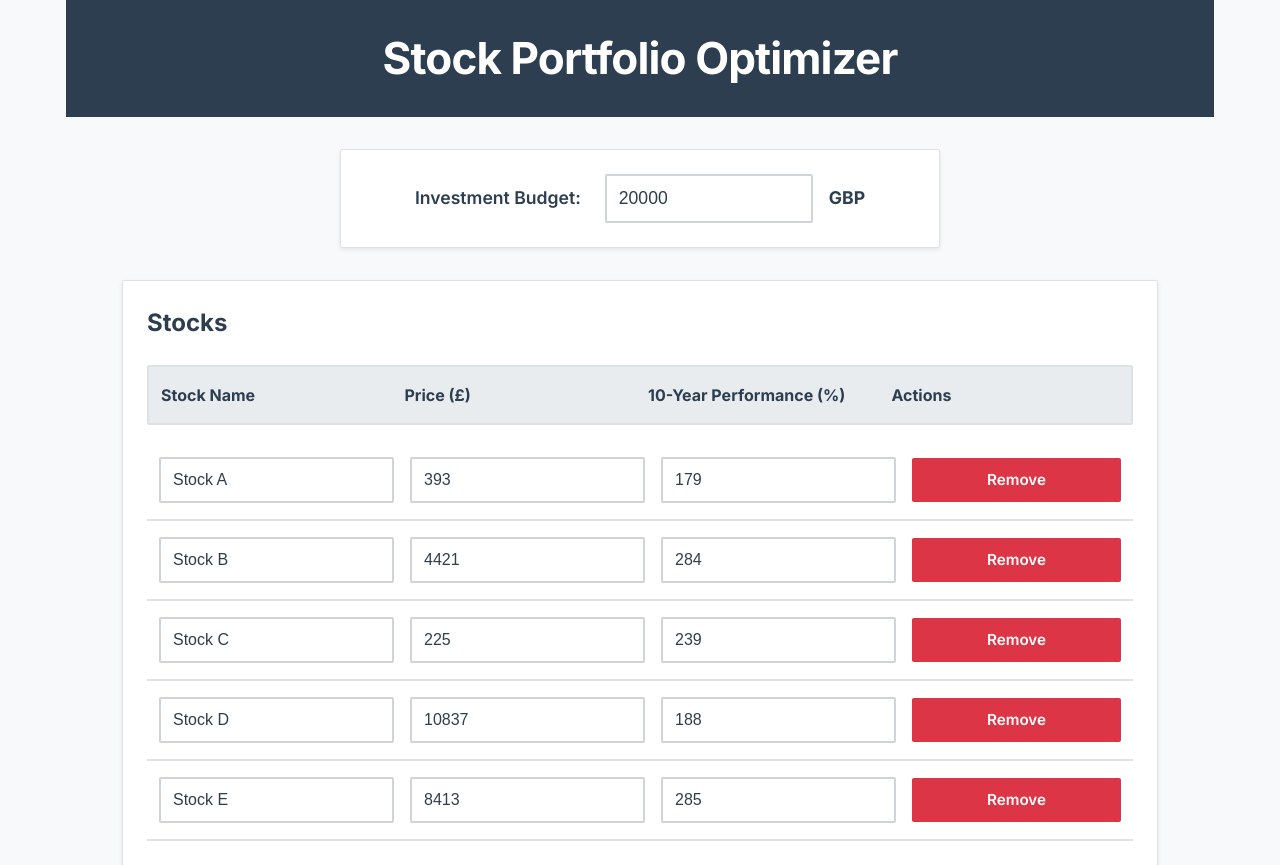
Test: PortfolioOptimizer › removes a stock when remove button is clicked
Note: Click the first remove button
Click the 1st button "Remove".
click(1016, 480)  # box [912, 458, 1121, 502]
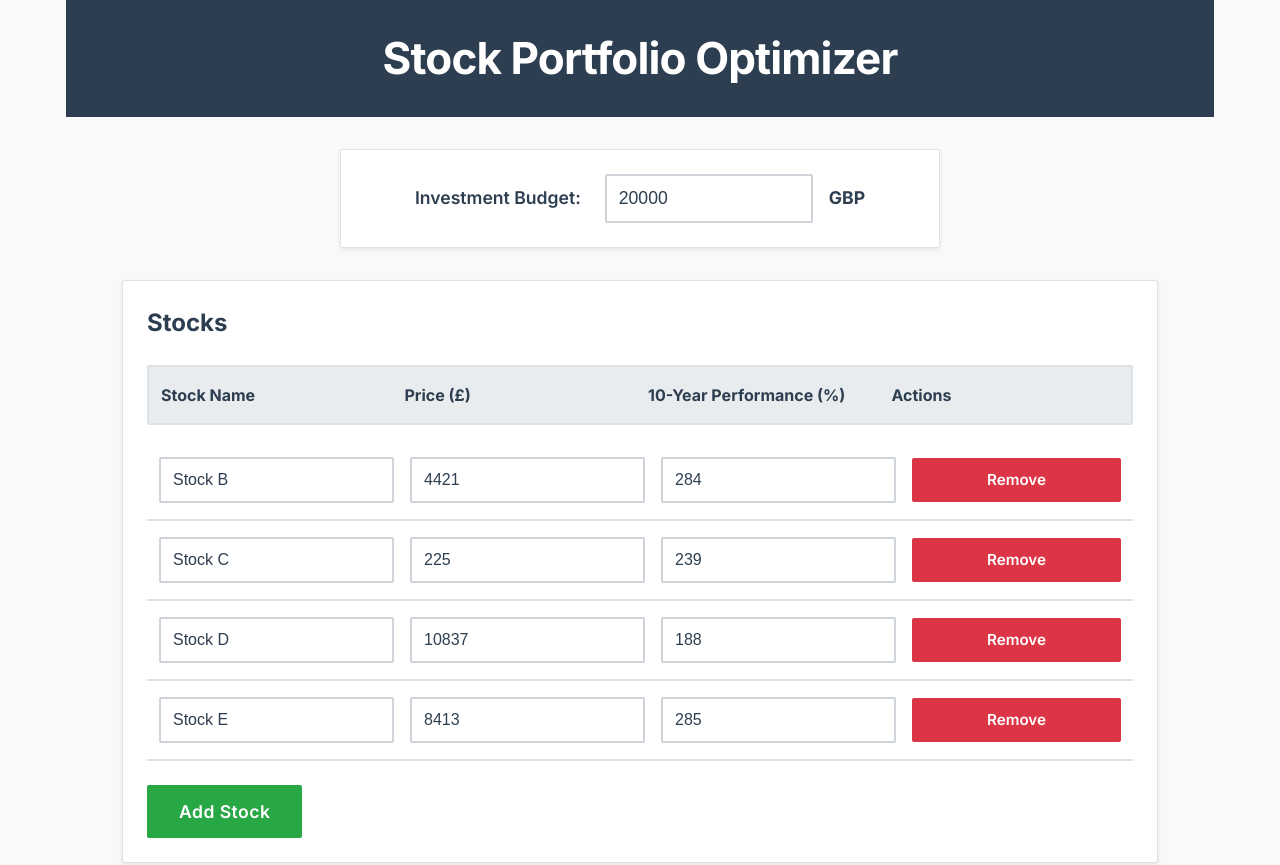
Check: the number of buttons "Remove" is 4, box [912, 458, 1121, 502]; [912, 538, 1121, 582]; [912, 618, 1121, 662]; [912, 698, 1121, 742]
